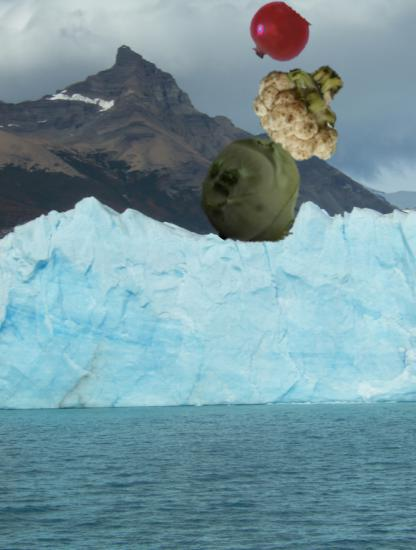Cauliflower: (252, 60, 357, 165)
Kohlrabi: (200, 138, 312, 250)
Redcurrant: (246, 3, 308, 65)
